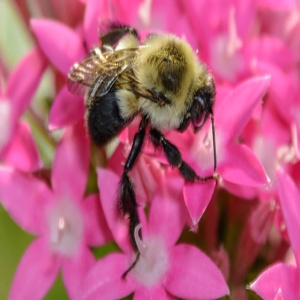bee: (68, 13, 219, 185)
